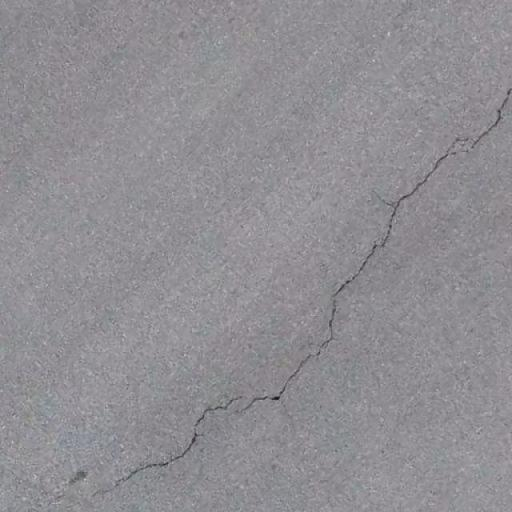minor crack: (0, 67, 57, 178)
moderate crack: (262, 192, 404, 407), (104, 386, 258, 491), (258, 352, 315, 404), (369, 183, 408, 251), (43, 472, 92, 506), (198, 397, 235, 424)
severe crack: (0, 1, 306, 318), (374, 81, 506, 227), (228, 387, 278, 412), (485, 85, 512, 131), (327, 273, 353, 306), (323, 296, 339, 344), (273, 397, 294, 419), (89, 485, 112, 499), (457, 141, 473, 153), (191, 429, 204, 439), (449, 149, 459, 156)
